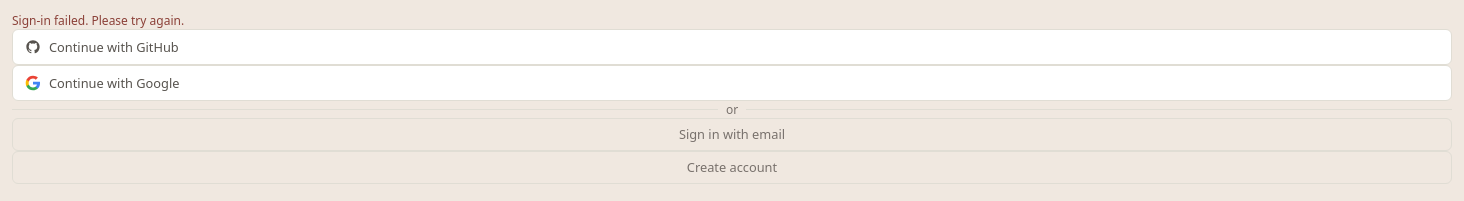
SignInForm with a social sign-in error › drops a social sign-in error on switching to the email form
The width and height of the screenshot is (1464, 201).
Expected: the text "Sign-in failed. Please try again." is shown, top-left (12, 12), bottom-right (184, 29)
Click the button "Sign in with email": (732, 134) top-left (12, 118), bottom-right (1452, 151)
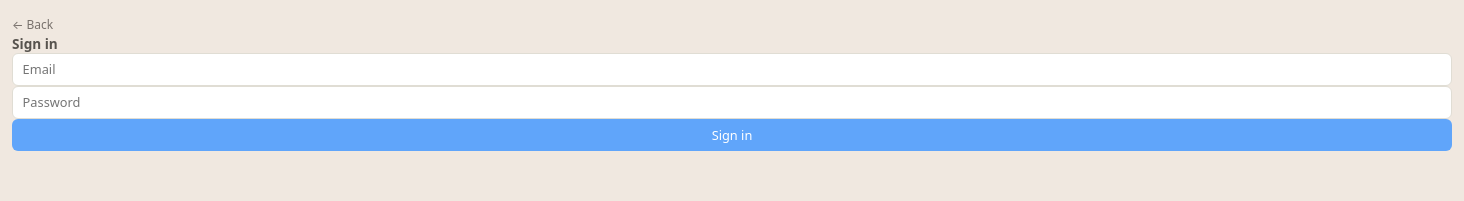
Expected: the field with placeholder "Email" is shown, top-left (12, 53), bottom-right (1452, 86)
